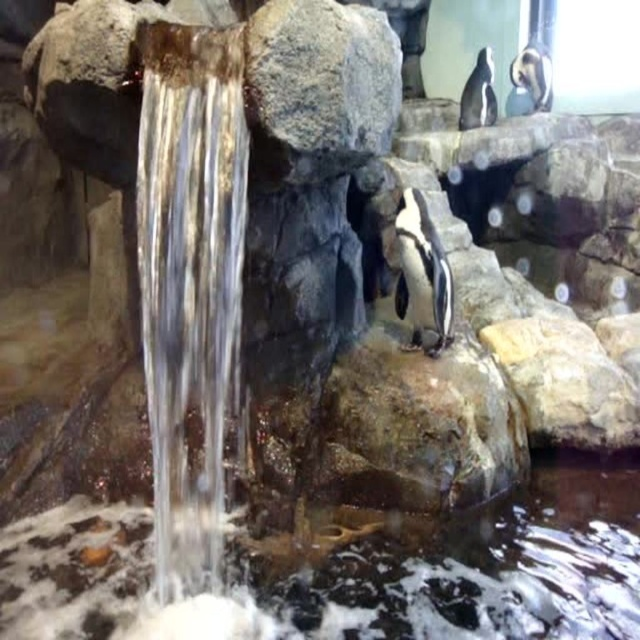Penguin: (395, 185, 455, 356), (458, 43, 499, 131), (513, 37, 555, 112)
